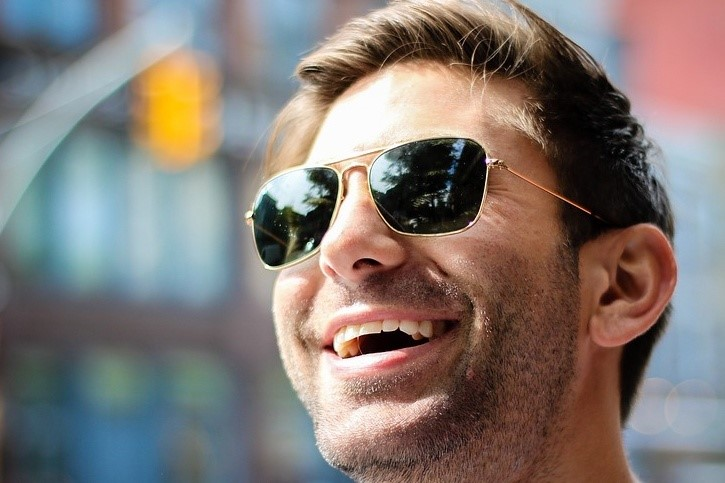face_no_mask: (243, 42, 659, 477)
